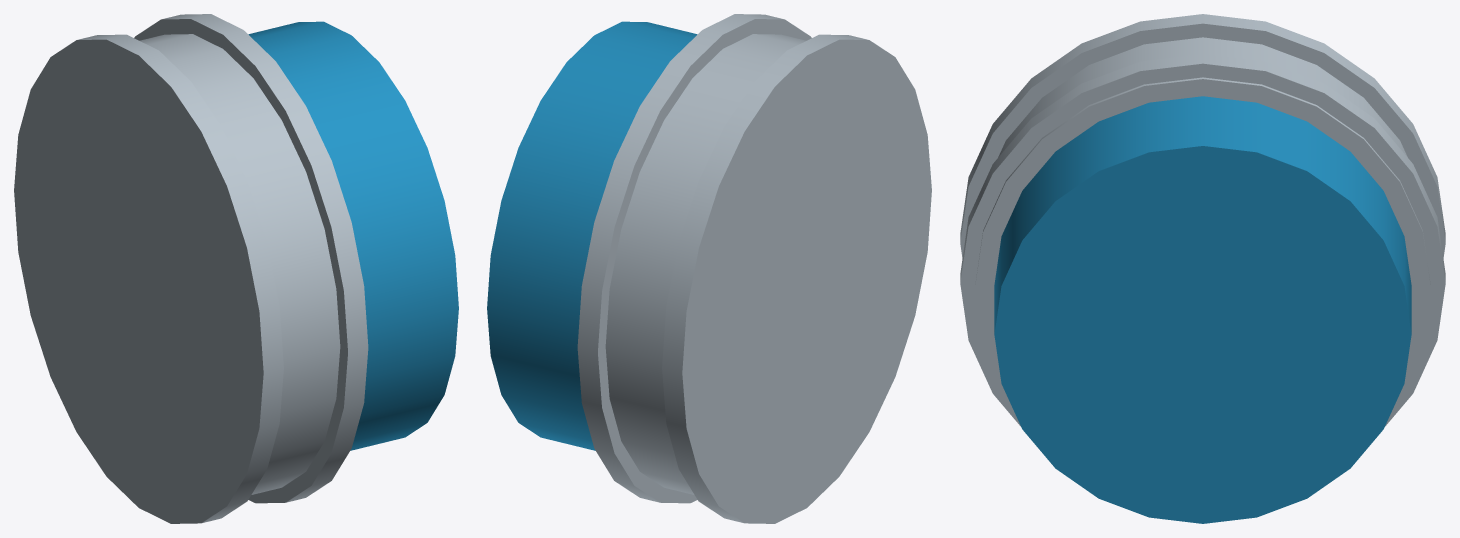
The model's file is SM_CDU_Adapter.glb.
The picture shows the model from 3 angles, left to right: view 1: azimuth 30°, elevation 25°; view 2: azimuth 150°, elevation 25°; view 3: azimuth 270°, elevation 25°; orthographic projection. The views are drawn at different scales.
Visible parts, largest first — view 1: SM_CDU_Adapter; view 2: SM_CDU_Adapter; view 3: SM_CDU_Adapter.
Boxes of the visible parts, x1,y1,x2,y2 form: SM_CDU_Adapter: (14, 14, 458, 523); SM_CDU_Adapter: (487, 14, 931, 523); SM_CDU_Adapter: (960, 14, 1445, 523).
Size of the model in its own units: 0.063 by 0.128 by 0.128.
